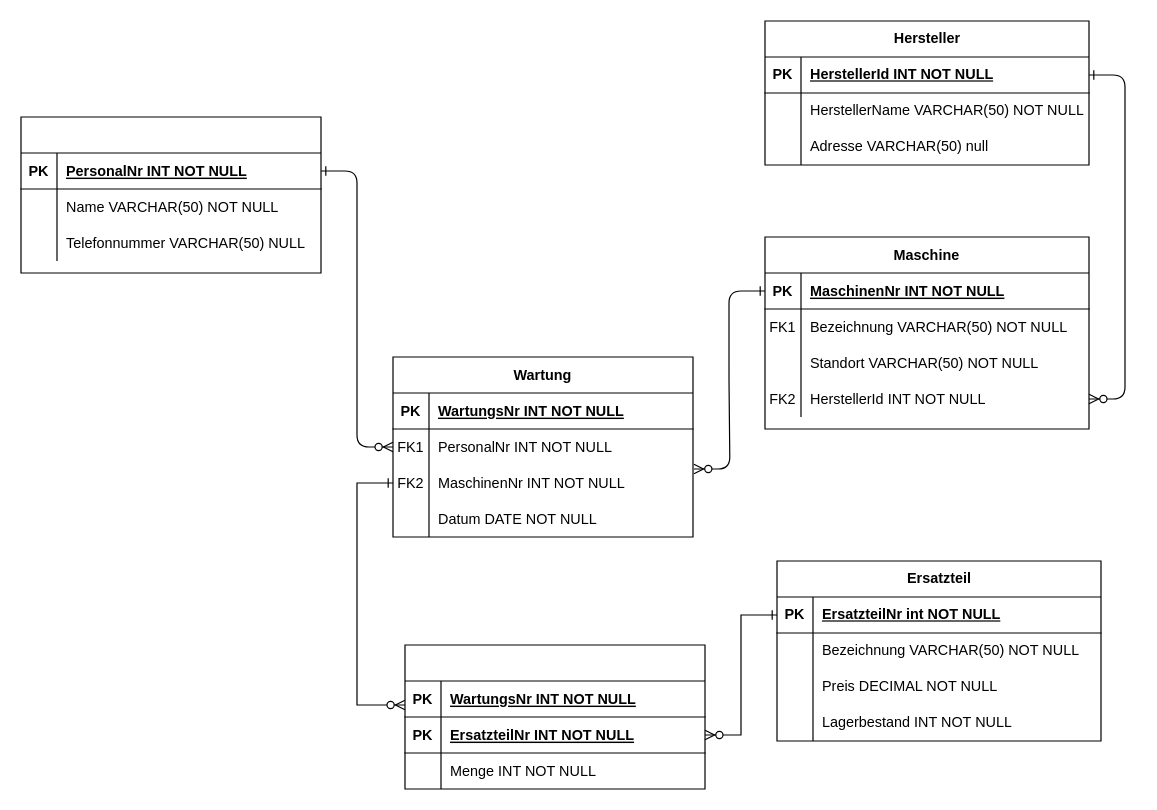
The diagram is 1157 pixels wide and 810 high, and some of its shapes have lost their labels. The box of each missing label's shape, as (x1, y1, x2, y2) in pixels:
Techniker: (20, 116, 321, 273)
Wartung_Ersatzteil: (404, 644, 705, 789)
